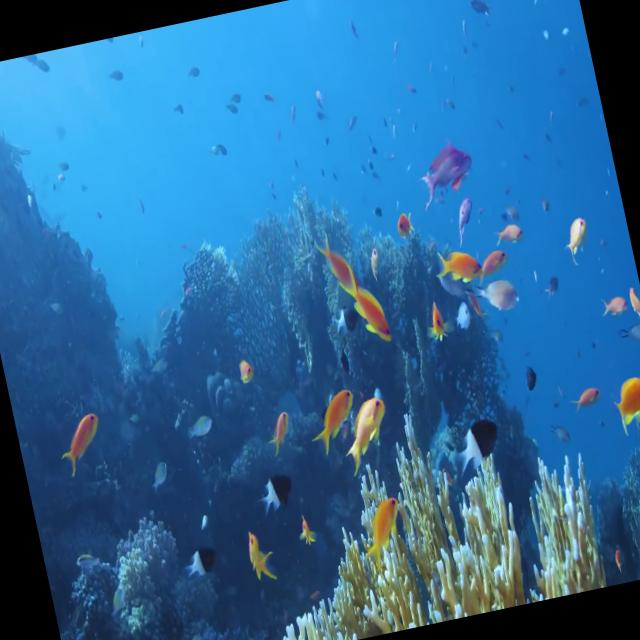fish: (334, 258, 393, 350), (338, 392, 396, 464), (416, 138, 479, 203), (356, 496, 409, 568), (308, 389, 363, 456), (54, 408, 108, 471), (314, 226, 358, 303), (436, 241, 484, 287), (474, 276, 519, 316), (611, 371, 640, 431), (245, 528, 278, 579), (562, 216, 594, 265), (182, 408, 218, 444)
